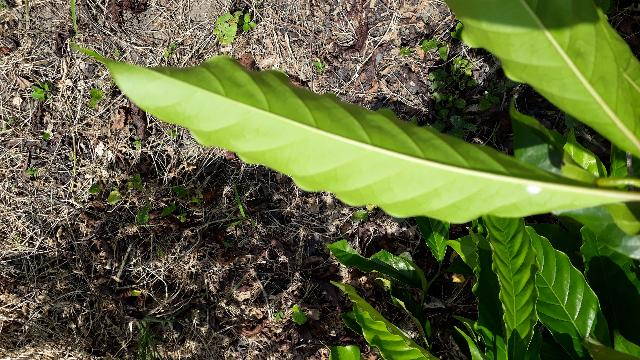healthy: (64, 44, 614, 225)
